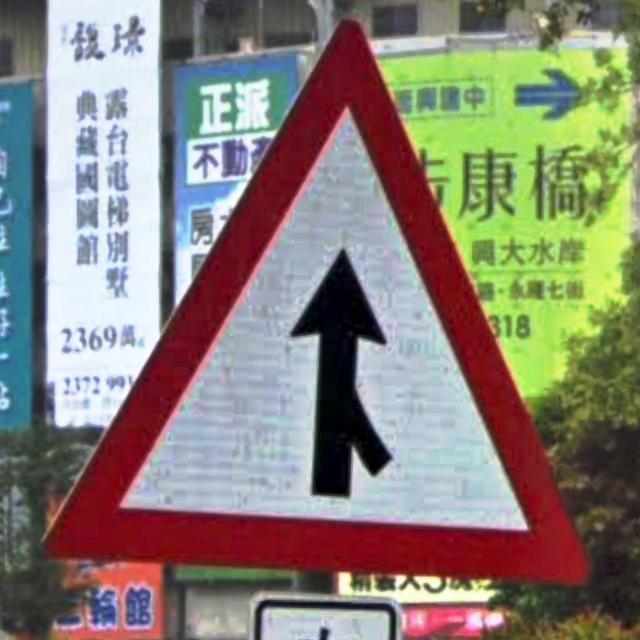rightmerge: (43, 20, 592, 589)
